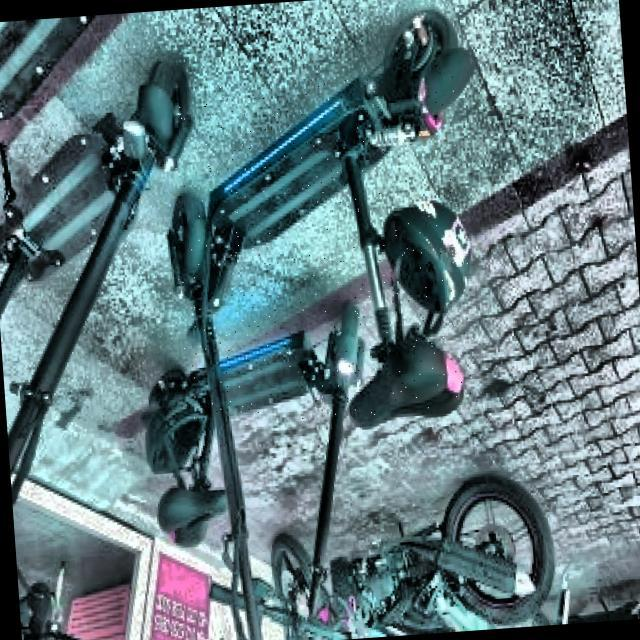bike: (119, 23, 558, 639)
